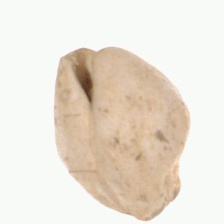L1: (134, 181, 184, 221), (56, 46, 115, 67)
L2: (53, 48, 191, 220)
